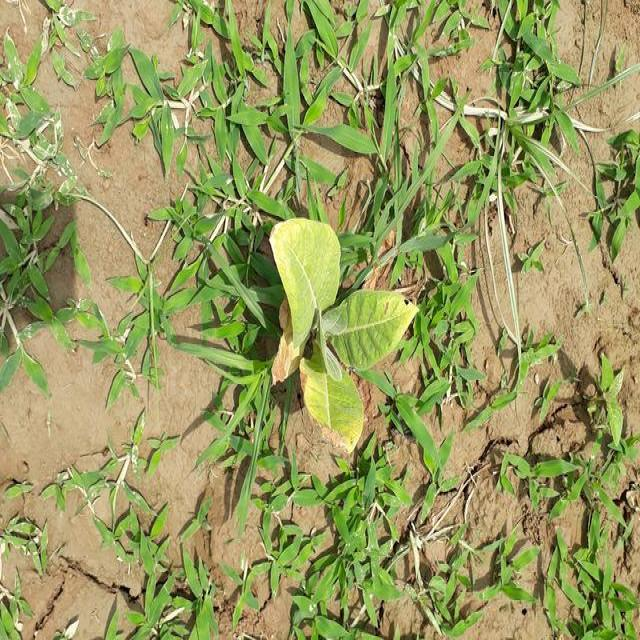crop: (269, 209, 424, 459)
